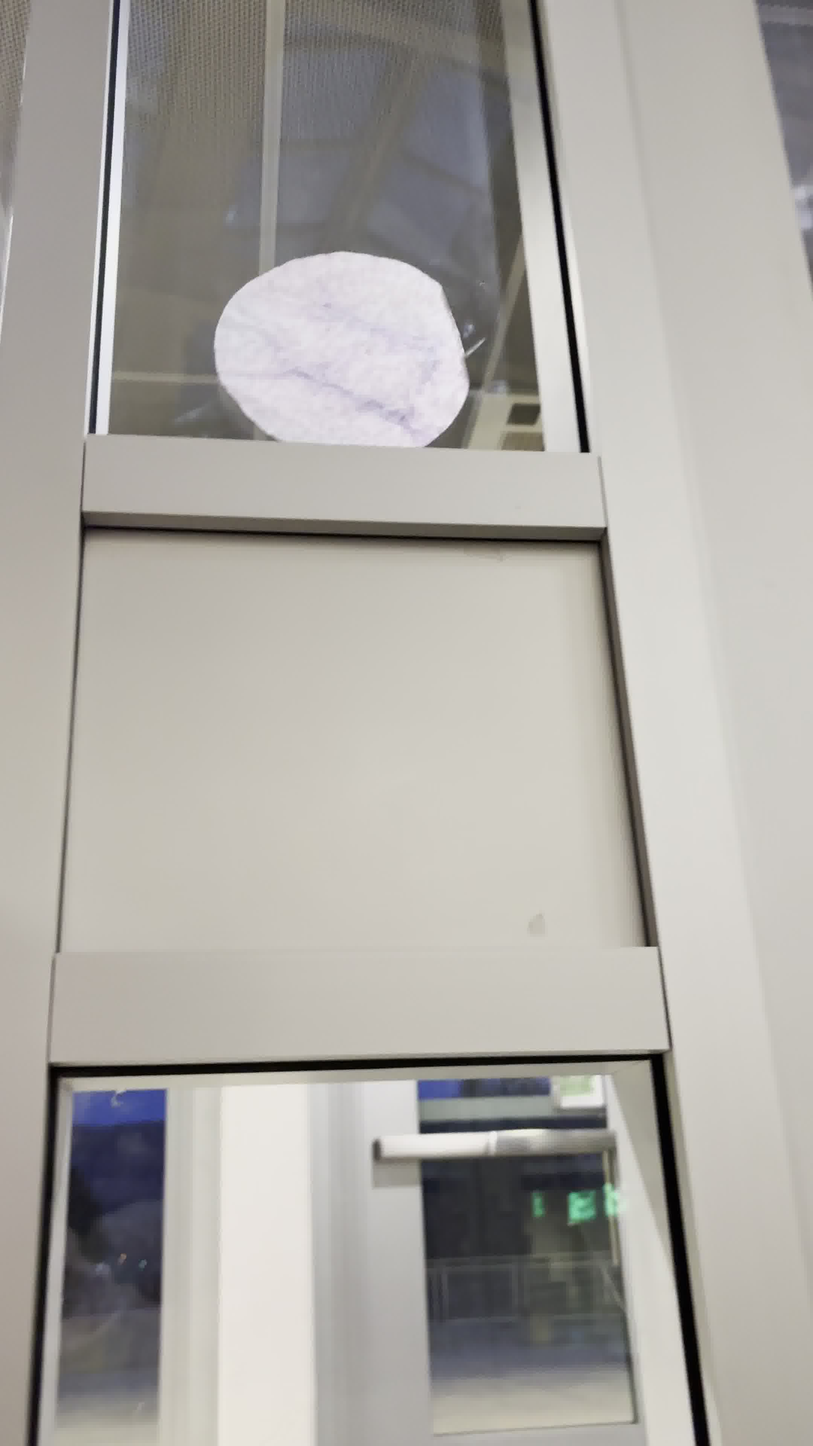Target: (212, 246, 474, 460)
